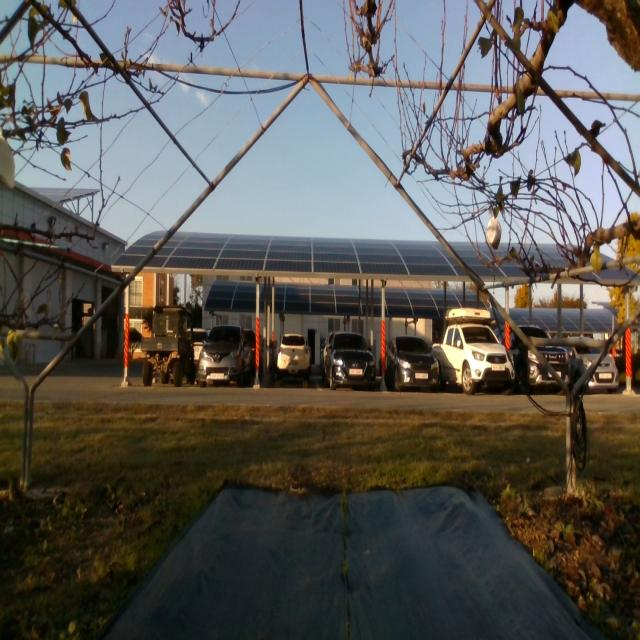pearbags: (486, 216, 502, 251)
